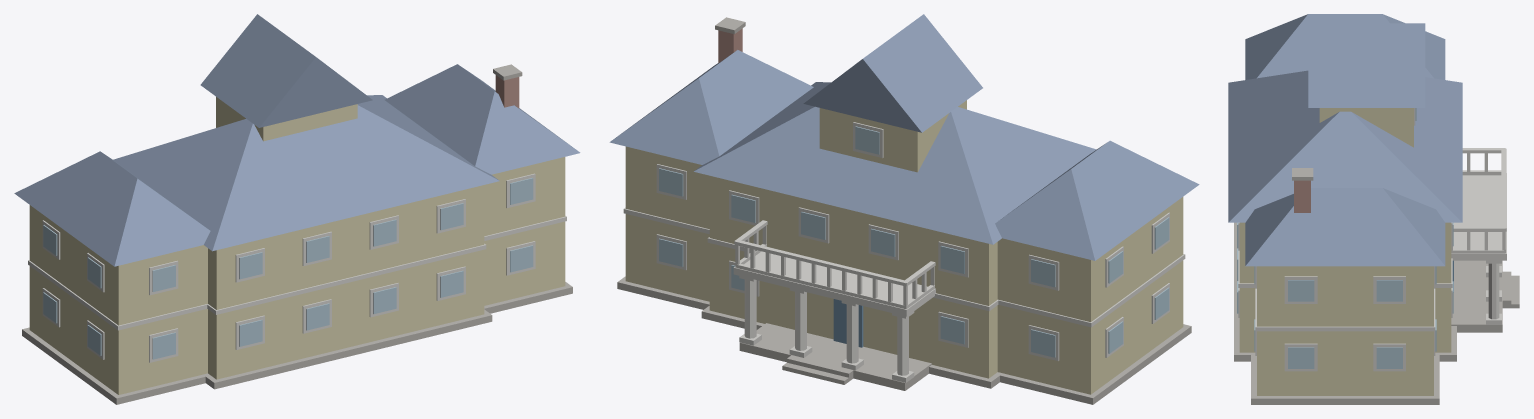
The model's file is casa-n08-a2f76cfa.glb.
3 renders of one model, left to right at view 1: azimuth 30°, elevation 25°; view 2: azimuth 150°, elevation 25°; view 3: azimuth 270°, elevation 25°, orthographic. The views are drawn at different scales.
Size of the model in its own units: 18.8 by 10.45 by 10.2.
